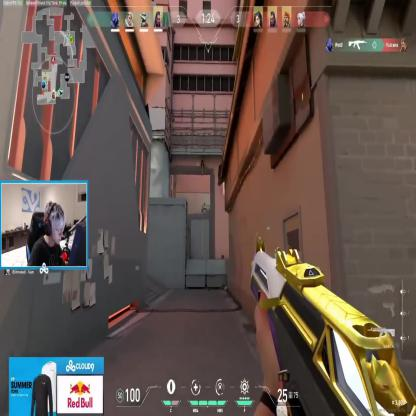enemy: (203, 202, 205, 216)
enemy_head: (203, 202, 205, 205)
